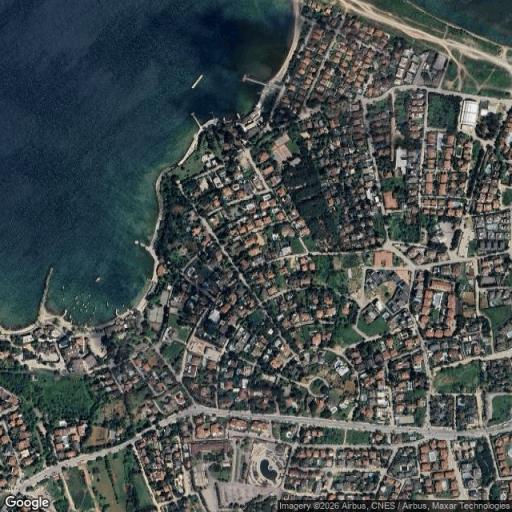ship: (192, 75, 203, 88), (65, 308, 69, 319), (105, 300, 110, 308), (63, 294, 67, 304), (67, 312, 72, 320), (60, 285, 66, 291), (74, 300, 80, 306), (96, 276, 101, 282), (121, 303, 126, 309), (72, 304, 76, 311), (74, 296, 80, 300), (84, 308, 88, 313), (94, 306, 98, 310), (84, 304, 88, 308), (91, 310, 95, 314), (92, 315, 96, 319), (86, 301, 89, 306), (79, 307, 82, 312), (81, 302, 84, 306), (88, 295, 90, 299)
